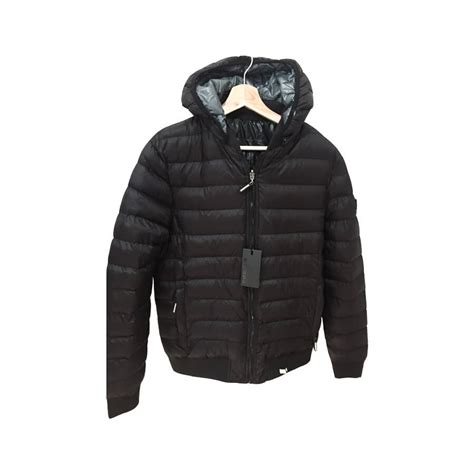nylon: (104, 55, 368, 418)
